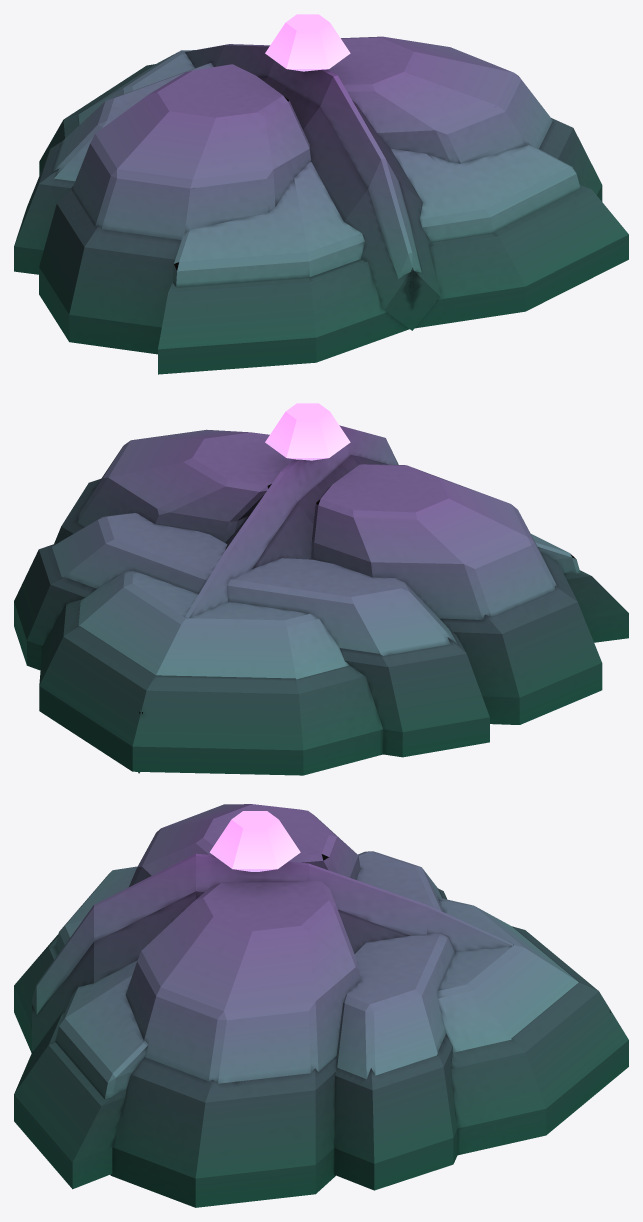
File: armor_chest_solana.glb
3 views of the same model, one above another, from view 1: azimuth 30°, elevation 25°; view 2: azimuth 150°, elevation 25°; view 3: azimuth 270°, elevation 25° (orthographic). The views are drawn at different scales.
Parts seen in each view (by area): view 1: chest; view 2: chest; view 3: chest.
Boxes of the visible parts, x1=… form: chest: x1=14, y1=14, x2=628, y2=374; chest: x1=14, y1=403, x2=628, y2=775; chest: x1=14, y1=804, x2=628, y2=1207.
Size of the model in its own units: 0.4883 by 0.209 by 0.4576.
3 materials, 3 textured.
